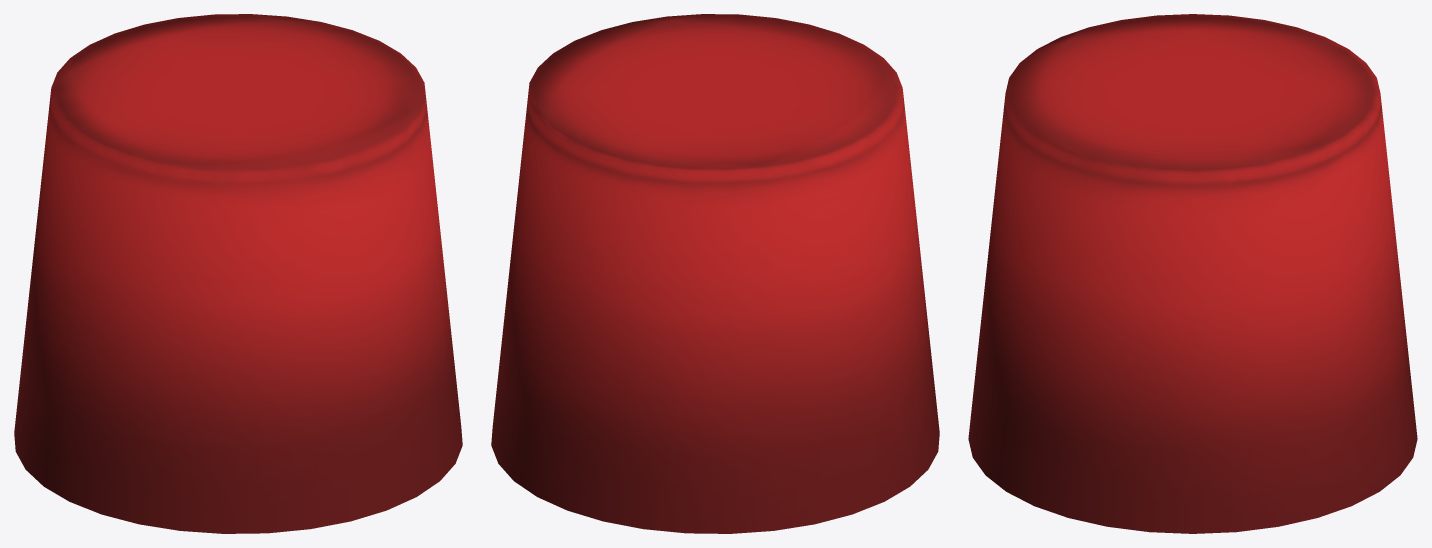
File: Hat3.glb
3 renders of one model, left to right at view 1: azimuth 30°, elevation 25°; view 2: azimuth 150°, elevation 25°; view 3: azimuth 270°, elevation 25°, orthographic.
Parts seen in each view (by area): view 1: Hat3; view 2: Hat3; view 3: Hat3.
Boxes of the visible parts, x1,y1,x2,y2 form: Hat3: (14, 14, 462, 533); Hat3: (491, 14, 939, 533); Hat3: (968, 14, 1417, 533).
Size of the model in its own units: 0.1019 by 0.0865 by 0.1019.
Materials: 1 (1 with a texture image).
